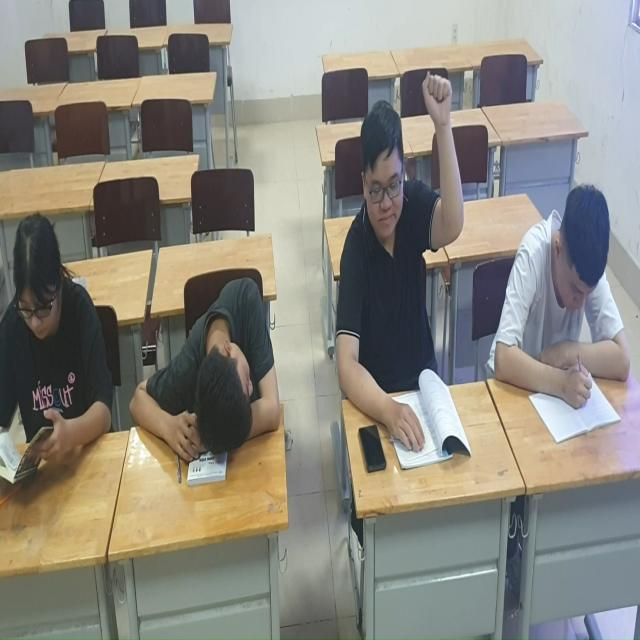raise_hand: (338, 65, 475, 460)
read: (499, 157, 636, 441), (1, 204, 117, 501)
sleep: (127, 277, 297, 486)
